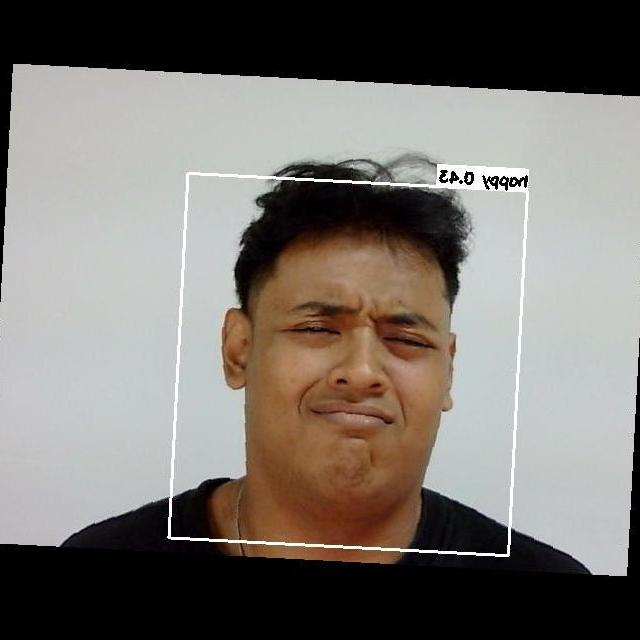Disgust: (257, 276, 445, 475)
